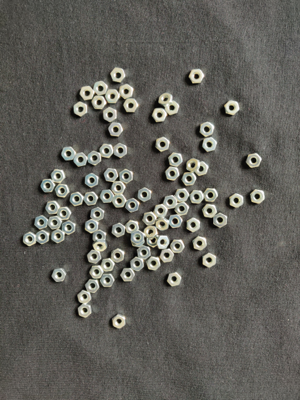nut: (249, 188, 266, 205), (123, 98, 140, 114), (245, 153, 263, 168), (110, 67, 126, 83), (105, 89, 121, 105), (102, 107, 118, 123), (108, 122, 124, 138), (199, 122, 215, 138), (154, 137, 170, 153), (168, 152, 184, 168), (224, 100, 240, 116), (136, 245, 152, 261), (146, 256, 162, 272), (188, 69, 205, 84), (164, 101, 181, 116), (44, 200, 61, 215), (51, 268, 68, 283), (93, 81, 109, 96), (158, 92, 174, 107), (152, 108, 168, 123), (99, 143, 114, 159), (202, 138, 218, 153), (194, 161, 209, 177), (164, 166, 180, 181), (181, 172, 197, 187), (104, 167, 119, 183), (119, 169, 135, 184), (85, 173, 100, 189), (50, 169, 66, 184), (54, 184, 70, 199), (138, 187, 153, 203), (125, 219, 140, 235), (77, 290, 93, 305), (111, 314, 126, 330), (229, 193, 245, 208), (204, 187, 219, 203), (186, 217, 201, 233), (40, 179, 57, 193), (80, 86, 95, 101), (119, 84, 134, 99), (73, 102, 88, 117), (61, 146, 76, 161), (73, 153, 88, 168), (87, 151, 102, 166), (125, 198, 140, 213), (90, 207, 105, 222), (92, 229, 107, 244), (51, 229, 66, 244), (22, 232, 37, 247), (87, 249, 102, 264), (111, 223, 126, 238), (120, 268, 135, 283), (163, 195, 178, 210), (213, 213, 228, 228), (153, 204, 168, 219), (193, 236, 208, 251), (202, 253, 217, 268), (167, 272, 182, 287), (155, 235, 170, 250), (130, 257, 145, 272), (91, 96, 107, 110), (70, 192, 84, 208), (83, 192, 99, 206), (99, 190, 115, 204), (56, 207, 72, 221), (61, 221, 77, 235), (111, 248, 125, 264), (174, 189, 190, 203), (142, 212, 158, 226), (114, 143, 128, 158), (186, 158, 200, 173), (111, 181, 126, 195), (35, 215, 49, 230), (48, 216, 63, 230), (85, 219, 99, 234), (36, 230, 50, 245), (89, 266, 104, 280), (85, 280, 100, 294), (100, 274, 115, 288), (101, 258, 116, 272), (78, 304, 93, 318), (189, 190, 204, 204), (175, 202, 190, 216), (202, 204, 217, 218), (155, 217, 170, 231), (144, 225, 159, 239), (171, 239, 185, 254), (131, 230, 145, 245), (111, 195, 127, 208), (92, 239, 108, 252), (169, 215, 183, 229), (160, 250, 174, 264), (131, 235, 145, 248), (147, 236, 160, 248)
